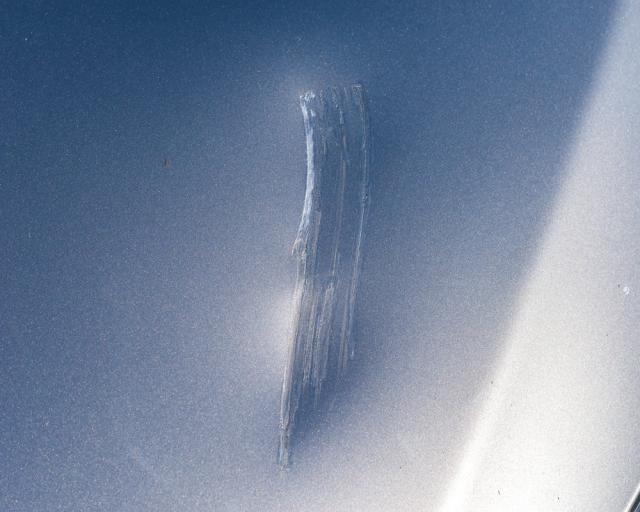scratch: (279, 85, 379, 461)
